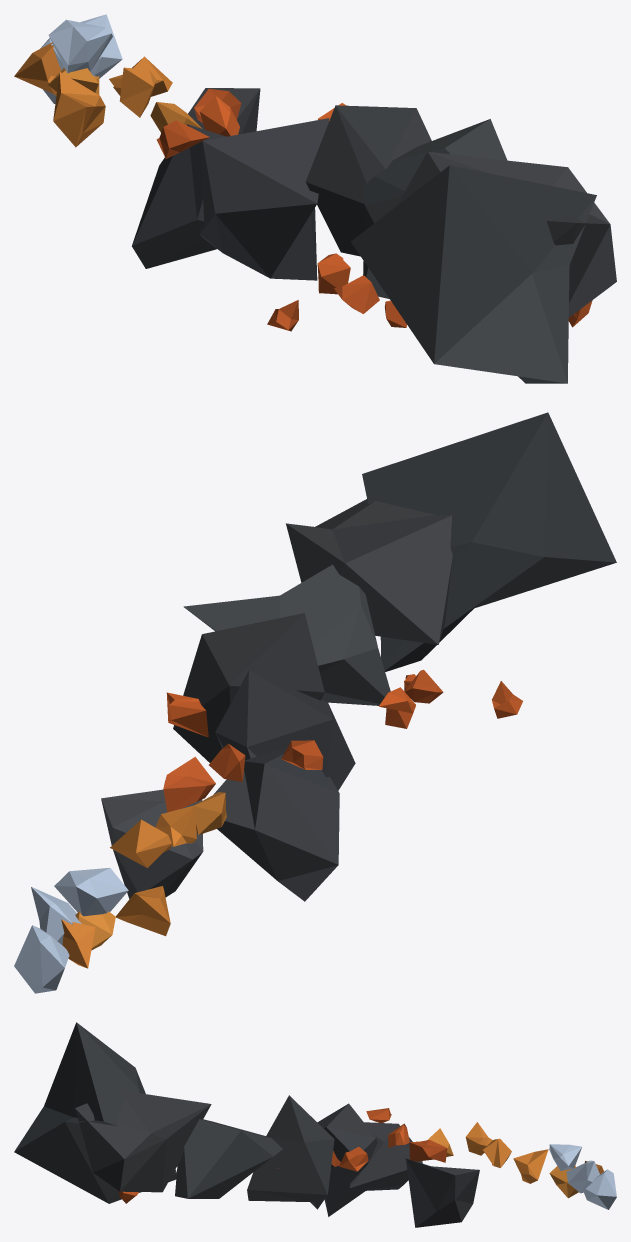
The model's file is wheel-spark-cloud.glb.
The picture shows the model from 3 angles, top to bottom: view 1: azimuth 30°, elevation 25°; view 2: azimuth 150°, elevation 25°; view 3: azimuth 270°, elevation 25°; orthographic projection. The views are drawn at different scales.
Parts seen in each view (by area): view 1: wheel_spark_cloud; view 2: wheel_spark_cloud; view 3: wheel_spark_cloud.
Boxes of the visible parts, box(x1,y1,x2,y2) form: wheel_spark_cloud: box(14, 14, 616, 383); wheel_spark_cloud: box(14, 412, 616, 993); wheel_spark_cloud: box(14, 1022, 616, 1227).
Bounding box in the file's own units: 0.4857 × 0.5018 × 1.53.
